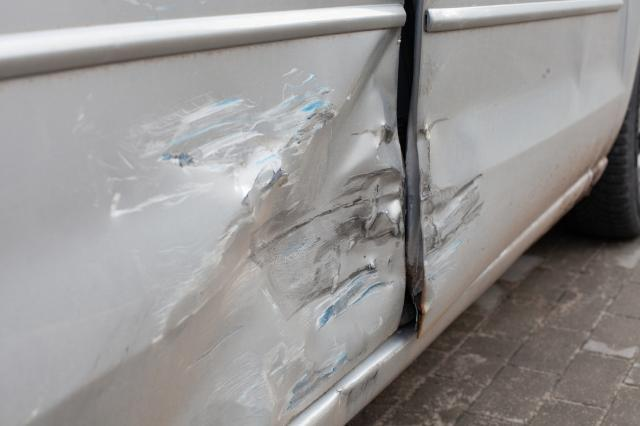dent: (164, 27, 402, 419), (416, 98, 487, 312)
scratch: (138, 68, 337, 198)
